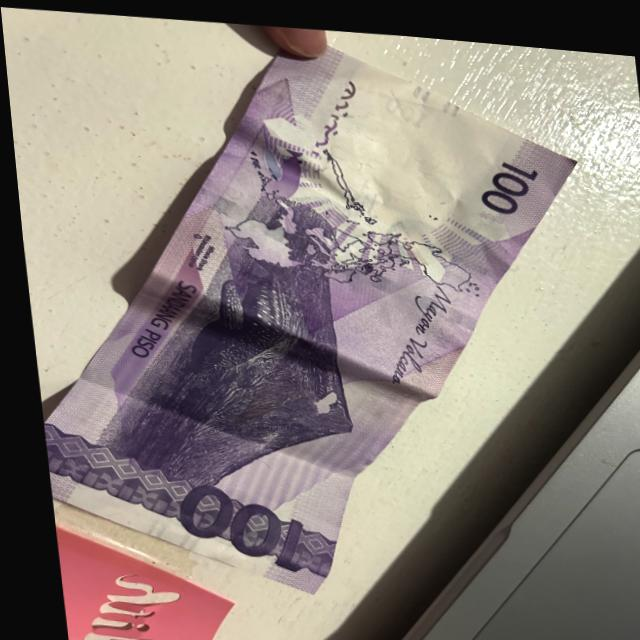100_whale: (170, 249, 291, 378)
100_whale_watermark: (259, 140, 310, 193)
value_watermark: (381, 87, 429, 122)
